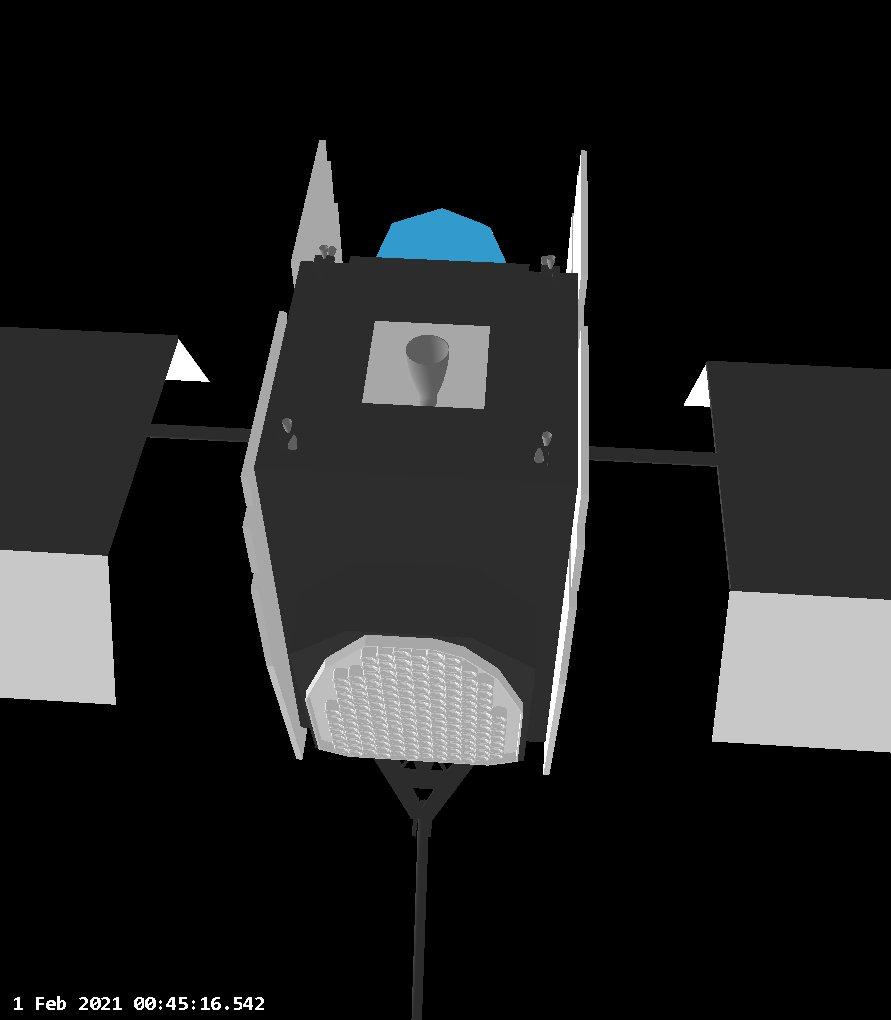antenna: (372, 756, 481, 1020), (443, 672, 461, 682), (443, 694, 461, 703), (426, 652, 443, 661), (361, 664, 378, 673), (338, 705, 355, 714), (445, 679, 460, 689), (392, 651, 410, 659), (443, 657, 461, 665), (443, 665, 461, 673), (395, 665, 411, 674), (395, 674, 411, 683), (427, 676, 445, 684), (477, 682, 493, 691), (461, 686, 477, 695), (351, 688, 367, 697), (336, 690, 352, 699), (445, 715, 461, 724), (362, 741, 376, 751), (393, 658, 410, 666), (363, 673, 380, 681), (396, 682, 413, 690), (397, 690, 414, 698), (382, 691, 399, 699), (398, 697, 415, 705), (398, 704, 415, 712), (462, 678, 477, 687), (461, 693, 476, 702), (461, 699, 476, 708), (477, 711, 492, 720), (476, 724, 491, 733), (461, 739, 476, 748), (377, 653, 393, 661), (378, 661, 394, 669), (427, 668, 443, 676), (411, 672, 427, 680), (428, 683, 444, 691), (445, 688, 461, 696), (428, 691, 444, 699), (477, 691, 493, 699), (352, 697, 368, 705), (461, 713, 477, 721), (370, 714, 386, 722), (328, 715, 344, 723), (491, 716, 507, 724), (400, 717, 416, 725), (460, 720, 476, 728), (354, 710, 372, 717), (386, 711, 400, 720), (462, 747, 476, 756), (411, 656, 426, 664), (411, 664, 426, 672), (462, 670, 477, 678), (380, 677, 395, 685), (413, 687, 428, 695), (477, 698, 492, 706), (477, 704, 492, 712), (461, 706, 476, 714), (343, 720, 358, 728), (372, 721, 387, 729), (491, 728, 506, 736), (462, 733, 477, 741), (491, 735, 506, 743), (431, 737, 446, 745), (346, 739, 361, 747), (389, 739, 404, 747), (362, 748, 377, 756), (490, 754, 505, 762), (332, 678, 349, 685), (384, 699, 401, 706), (358, 725, 375, 732), (328, 728, 345, 735), (332, 740, 349, 747), (446, 748, 463, 755), (362, 657, 378, 664), (427, 661, 443, 668), (380, 669, 394, 677), (347, 676, 363, 683), (366, 681, 380, 689), (334, 685, 350, 692), (414, 695, 430, 702), (430, 705, 444, 713), (369, 708, 385, 715), (415, 709, 431, 716), (445, 709, 461, 716), (415, 715, 431, 722), (356, 718, 372, 725), (491, 723, 507, 730), (373, 728, 387, 736), (404, 741, 418, 749), (491, 741, 505, 749), (374, 746, 390, 753), (446, 754, 462, 761), (476, 755, 490, 763), (328, 722, 346, 728), (412, 680, 427, 687), (350, 683, 365, 690), (382, 684, 397, 691), (367, 689, 382, 696), (368, 695, 383, 702), (368, 702, 383, 709), (444, 703, 459, 710), (384, 705, 399, 712), (341, 713, 356, 720), (387, 719, 402, 726), (431, 719, 446, 726), (445, 723, 460, 730), (416, 728, 431, 735), (446, 729, 461, 736), (346, 733, 361, 740), (388, 733, 403, 740), (331, 734, 346, 741), (446, 736, 461, 743), (446, 742, 461, 749), (418, 747, 433, 754), (490, 748, 505, 755), (418, 753, 433, 760), (477, 719, 490, 727), (462, 727, 475, 735), (418, 740, 431, 748), (476, 749, 489, 757), (398, 712, 415, 718), (415, 702, 429, 709), (431, 713, 445, 720), (388, 726, 402, 733), (402, 730, 416, 737), (477, 731, 491, 738), (476, 738, 490, 745), (476, 743, 490, 750), (334, 745, 348, 752), (390, 746, 404, 753), (337, 700, 353, 706), (359, 731, 375, 737), (375, 735, 388, 742), (463, 757, 476, 764), (325, 710, 340, 716), (416, 722, 431, 728), (375, 741, 390, 747), (431, 745, 446, 751), (431, 755, 446, 761), (352, 705, 369, 710), (429, 699, 443, 705), (401, 724, 415, 730), (345, 728, 359, 734), (417, 735, 431, 741), (361, 736, 375, 742), (403, 736, 417, 742), (375, 752, 389, 758), (405, 748, 418, 754), (391, 751, 404, 757), (431, 751, 446, 756), (406, 753, 418, 759), (431, 727, 445, 732), (431, 733, 445, 738), (348, 746, 362, 751), (349, 751, 362, 756)
body: (409, 252, 746, 784)
solar: (0, 323, 216, 709), (682, 361, 891, 753)
thruster: (400, 331, 451, 413), (285, 431, 299, 453), (532, 446, 546, 466), (280, 417, 292, 437), (541, 429, 553, 447), (318, 242, 329, 261), (545, 254, 557, 271), (328, 245, 339, 259), (538, 254, 547, 266)
